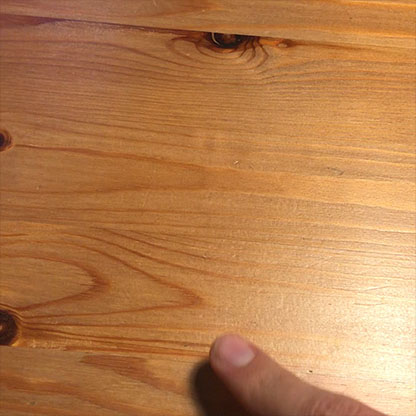fingertip: (206, 328, 262, 378)
